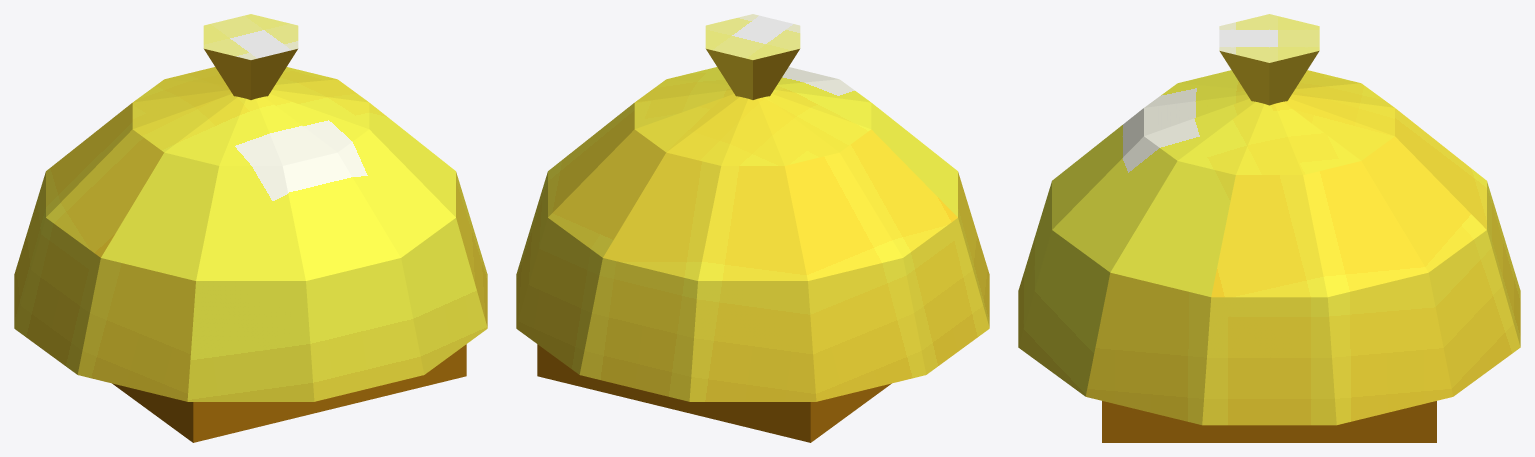
The model's file is Bell.fbx.
3 views of the same model, side by side, from view 1: azimuth 30°, elevation 25°; view 2: azimuth 150°, elevation 25°; view 3: azimuth 270°, elevation 25° (orthographic). The views are drawn at different scales.
Visible parts, largest first — view 1: sphere, cuboid, cone; view 2: sphere, cuboid, cone; view 3: sphere, cuboid, cone.
Boxes of the visible parts, left/top/right/bottom form: sphere: left=14, top=67, right=487, bottom=401; cuboid: left=112, top=344, right=466, bottom=442; cone: left=203, top=14, right=298, bottom=99; sphere: left=516, top=67, right=989, bottom=401; cuboid: left=537, top=344, right=891, bottom=442; cone: left=705, top=14, right=800, bottom=99; sphere: left=1018, top=70, right=1520, bottom=425; cuboid: left=1102, top=401, right=1436, bottom=442; cone: left=1219, top=14, right=1319, bottom=105.
Bounding box in the file's own units: 20 × 14.67 × 20.
1 material, 1 textured.
